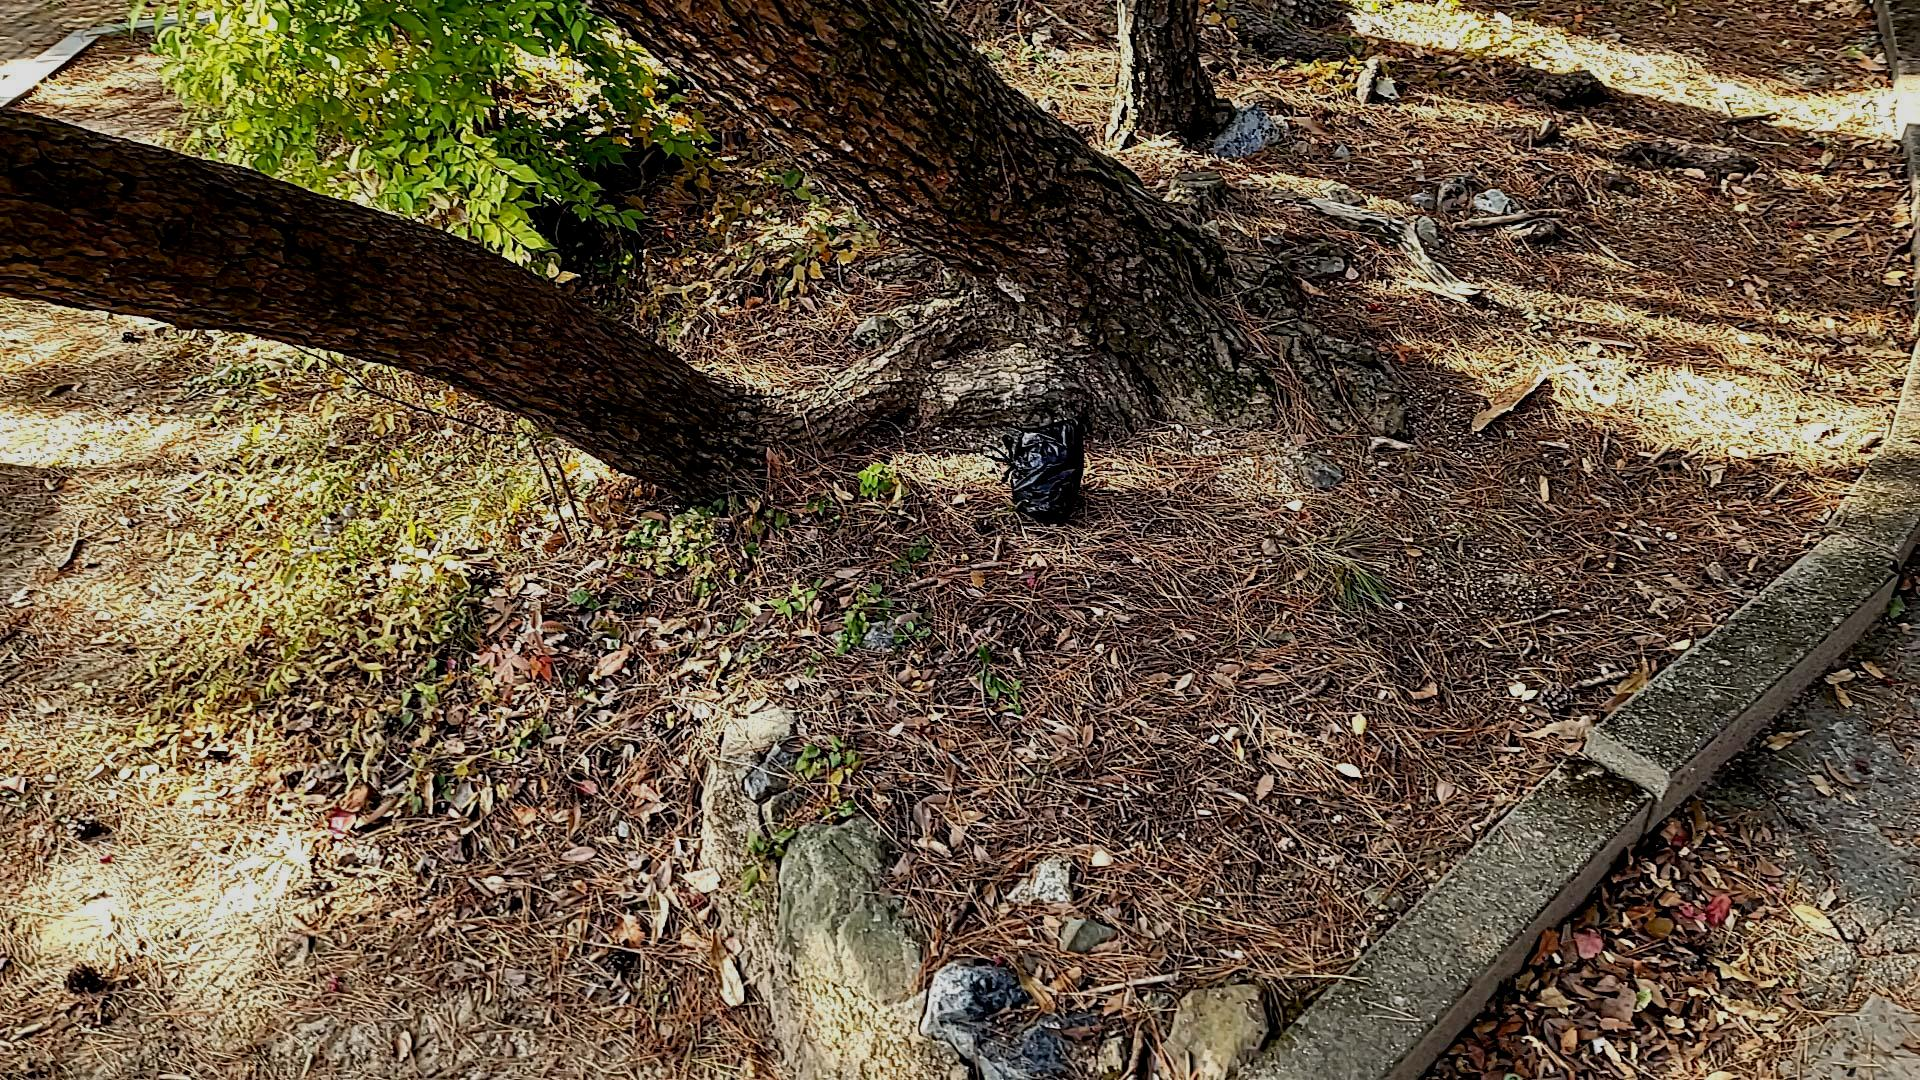black_bag: (985, 418, 1095, 526)
